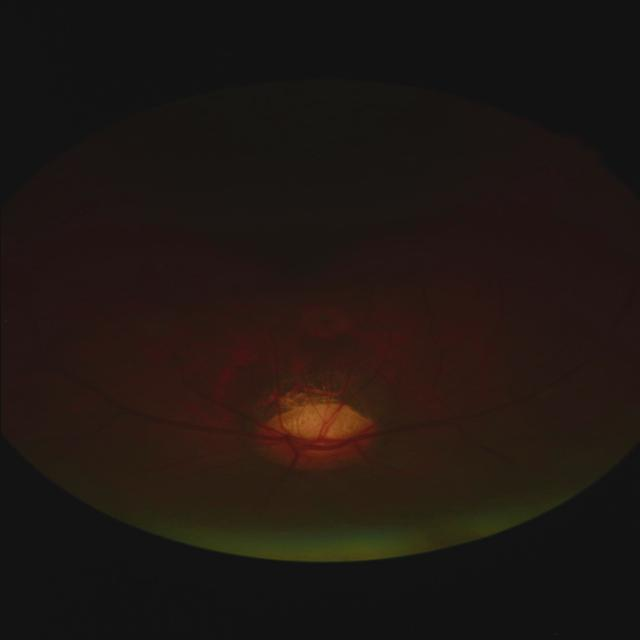cup: (266, 406, 368, 452)
disk: (253, 404, 379, 472)
